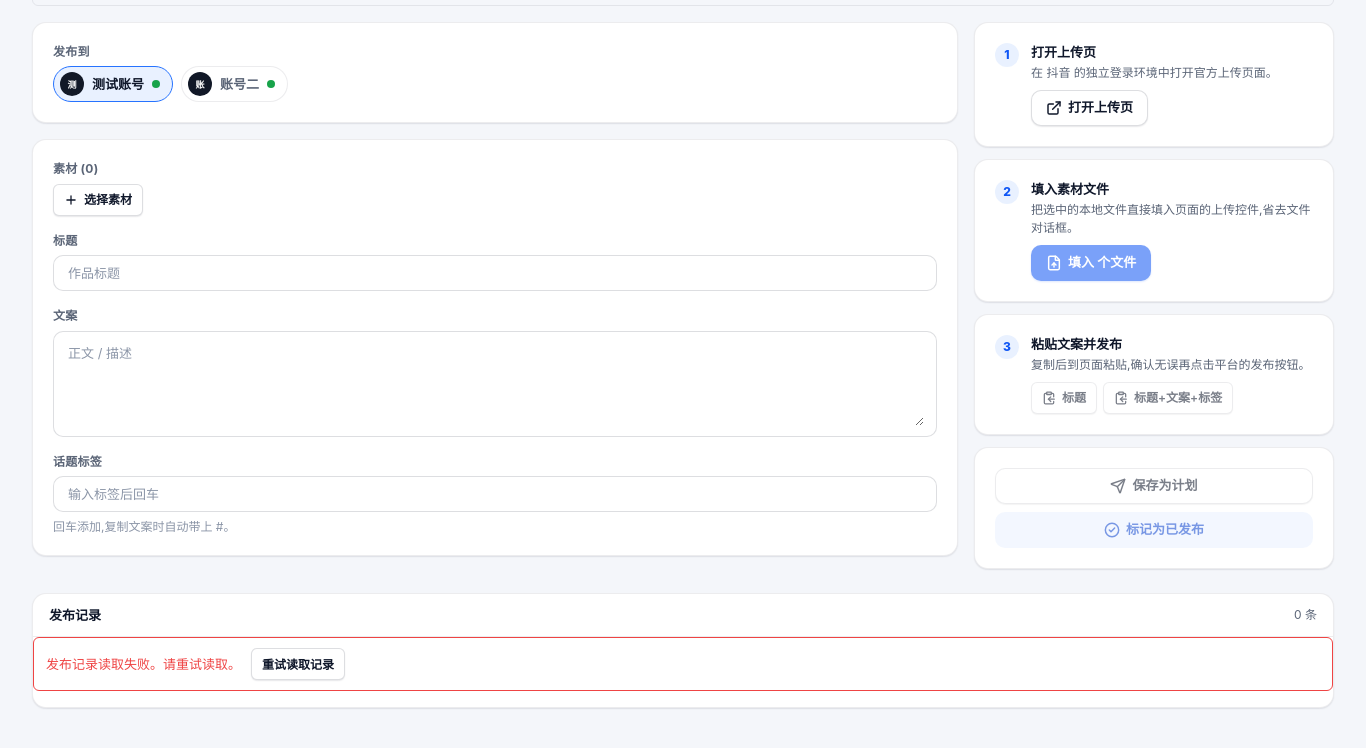
Scenario: shows read failures rather than claiming there are no publication records
The image size is (1366, 748).
(page scrolled)
Expected: the message "发布记录读取失败。请重试读取。 重试读取记录" is shown, [33,637,1333,691]
Click the button "重试读取记录". click: {"x": 298, "y": 664}
box: [251,648,345,680]
(page scrolled)
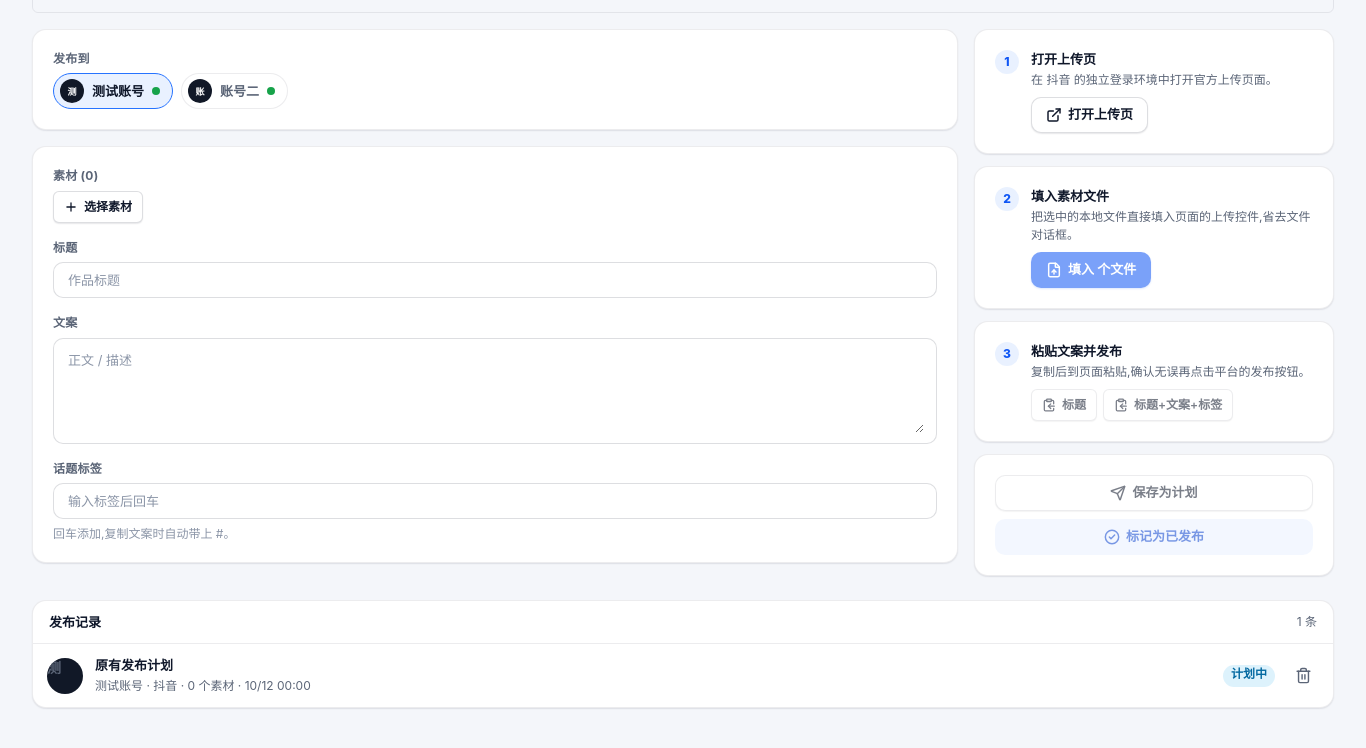
Now the text "原有发布计划" is shown, box [95,657,173,673]
